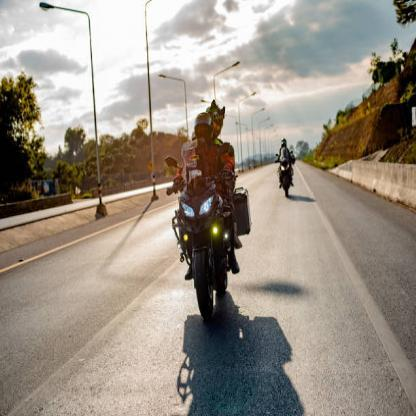Motorcycle: (167, 159, 241, 334)
